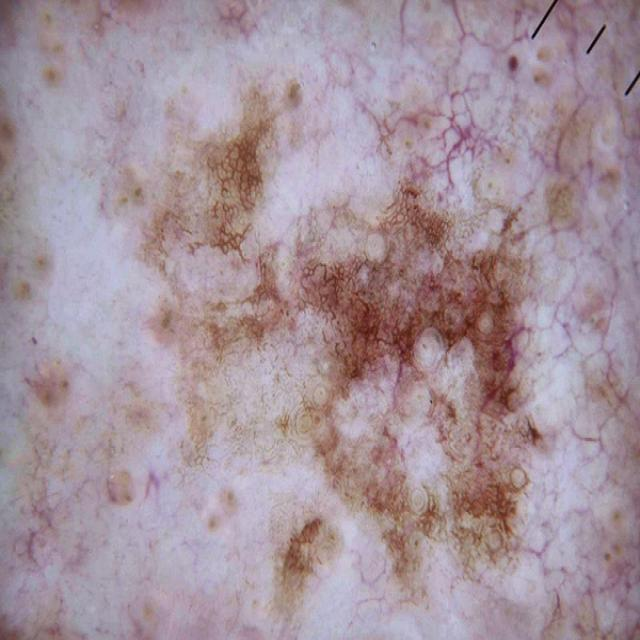Benign-Keratosis-like-Lesions-BKL-: (31, 59, 541, 565)
